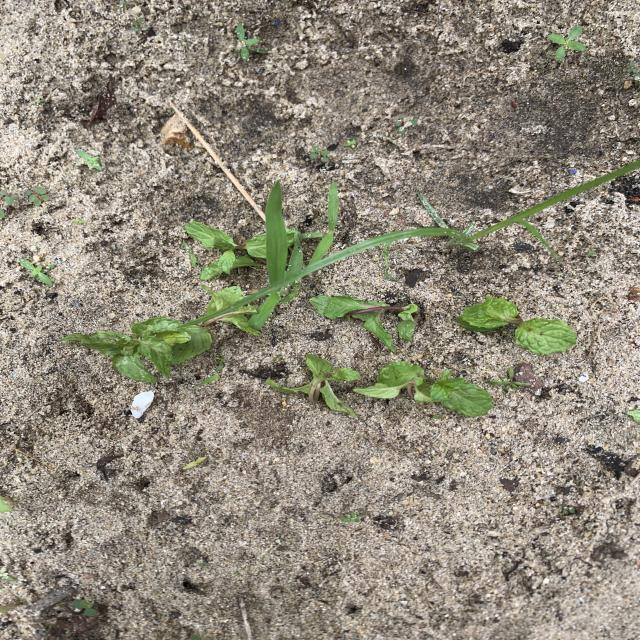crop: (61, 317, 191, 383), (354, 361, 492, 417), (455, 296, 577, 354), (266, 354, 360, 418), (310, 296, 421, 350), (171, 305, 259, 364), (185, 221, 267, 280), (200, 283, 243, 316), (165, 333, 185, 345), (286, 229, 299, 244)
weed: (189, 160, 640, 325), (305, 183, 338, 270), (266, 181, 288, 285), (249, 289, 297, 330), (548, 26, 586, 62), (234, 24, 268, 61), (490, 366, 530, 393), (19, 258, 55, 286), (303, 144, 337, 168), (117, 6, 144, 32), (200, 358, 222, 385), (76, 149, 103, 171), (289, 235, 303, 275), (72, 598, 99, 617), (23, 187, 50, 206), (382, 244, 396, 280), (0, 189, 16, 219), (181, 240, 197, 268), (181, 457, 209, 472), (381, 244, 392, 278), (341, 509, 367, 523), (624, 62, 640, 79), (29, 93, 51, 104), (345, 138, 359, 149), (72, 218, 84, 225)
